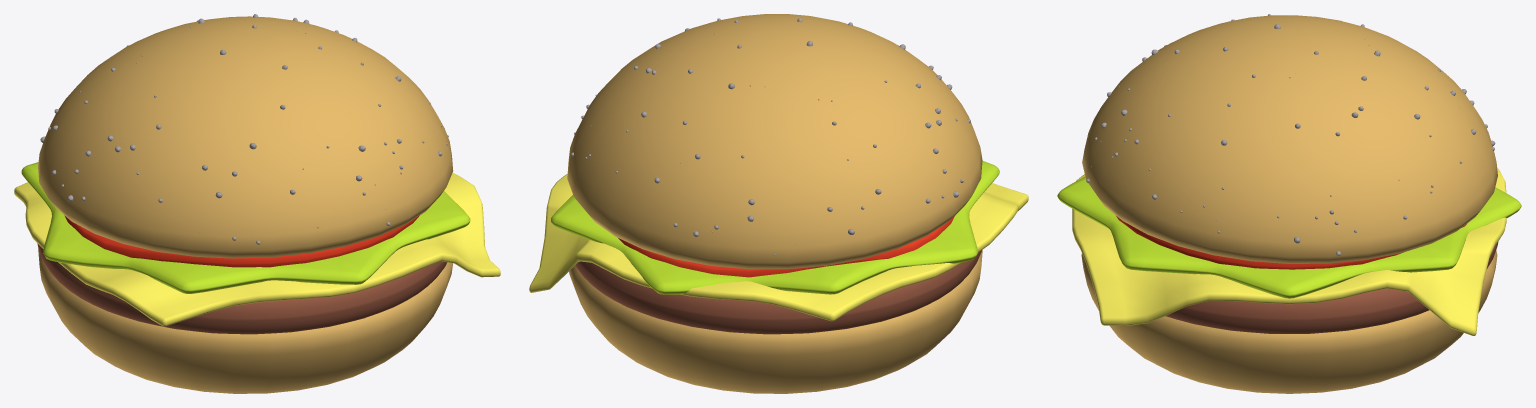
The model's file is low-poly-burger.fbx.
The picture shows the model from 3 angles, left to right: view 1: azimuth 30°, elevation 25°; view 2: azimuth 150°, elevation 25°; view 3: azimuth 270°, elevation 25°; orthographic projection.
Parts seen in each view (by area): view 1: Burger; view 2: Burger; view 3: Burger.
Part boxes in pixels (<box>): Burger: <box>14,14,500,393</box>; Burger: <box>529,14,1028,393</box>; Burger: <box>1057,14,1521,393</box>.
Size of the model in its own units: 214 by 151 by 214.
